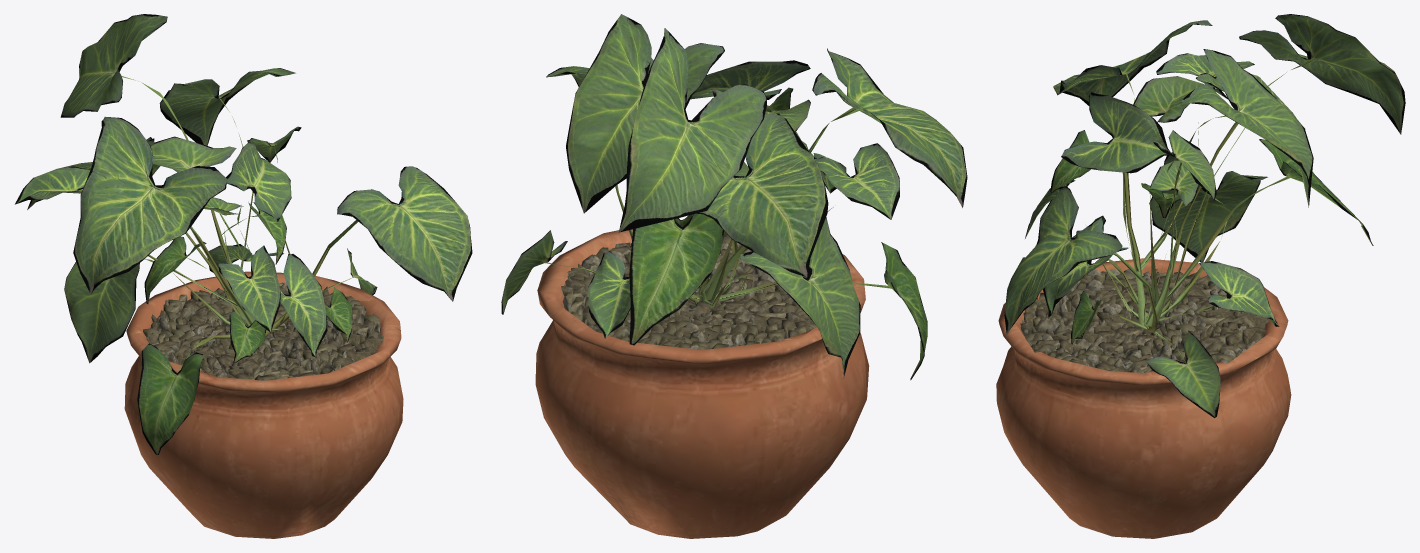
File: potted_plant_02.glb
The picture shows the model from 3 angles, left to right: view 1: azimuth 30°, elevation 25°; view 2: azimuth 150°, elevation 25°; view 3: azimuth 270°, elevation 25°; orthographic projection. The views are drawn at different scales.
Parts seen in each view (by area): view 1: potted_plant_02_leaves, potted_plant_02_pot, potted_plant_02_dirt; view 2: potted_plant_02_leaves, potted_plant_02_pot, potted_plant_02_dirt; view 3: potted_plant_02_leaves, potted_plant_02_pot, potted_plant_02_dirt.
Part boxes in pixels (x1,y1,x2,y2): potted_plant_02_leaves: [15, 14, 472, 454]; potted_plant_02_pot: [124, 271, 403, 538]; potted_plant_02_dirt: [143, 282, 383, 390]; potted_plant_02_leaves: [501, 14, 967, 380]; potted_plant_02_pot: [535, 220, 869, 538]; potted_plant_02_dirt: [561, 233, 816, 366]; potted_plant_02_leaves: [1004, 14, 1405, 417]; potted_plant_02_pot: [996, 258, 1291, 538]; potted_plant_02_dirt: [1020, 268, 1268, 372].
Bounding box in the file's own units: 0.7009 × 0.8401 × 0.6561.
2 materials, 2 textured.
